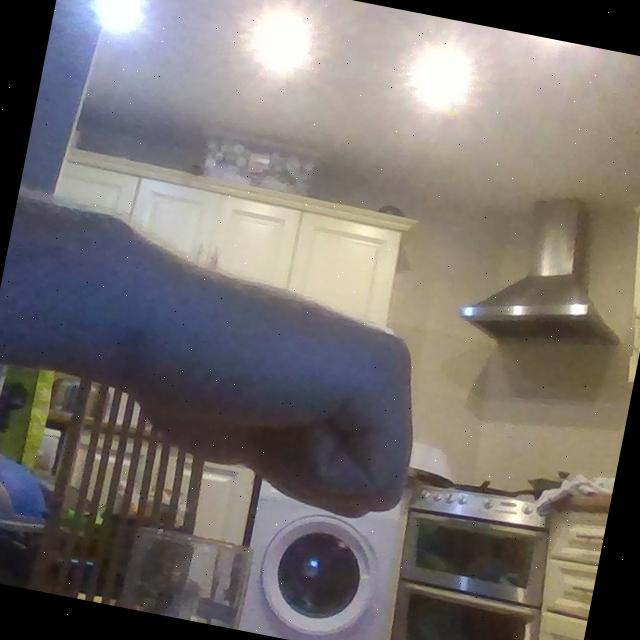rock: (74, 217, 449, 530)
